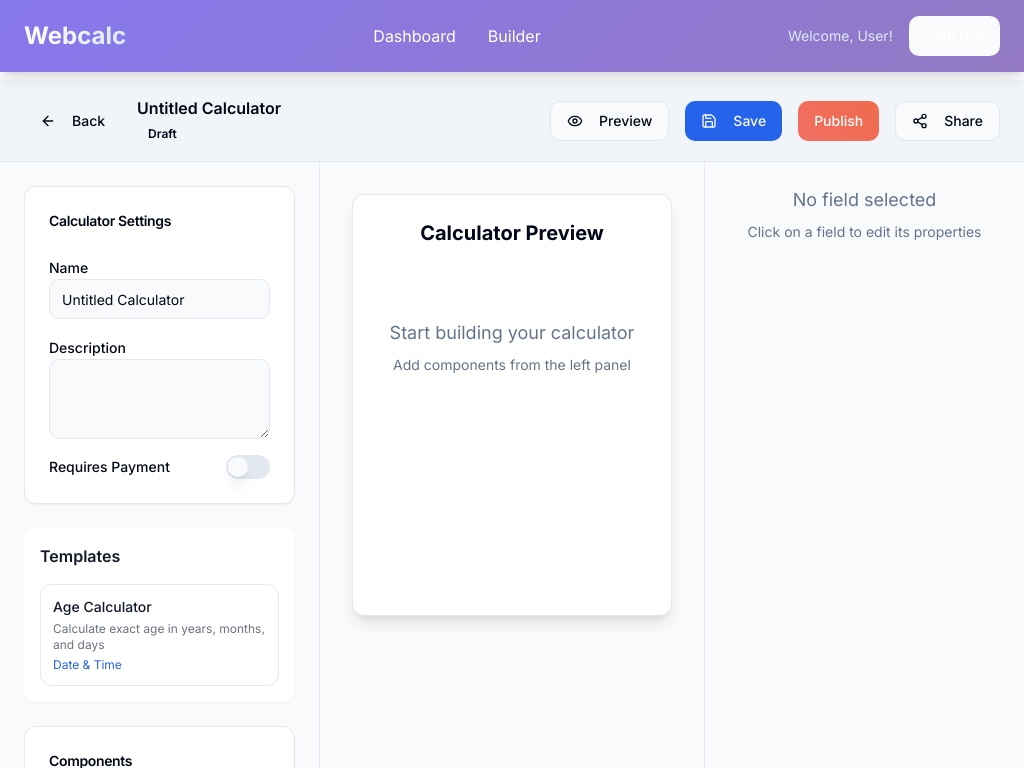
Test: Builder › shows preview mode
The width and height of the screenshot is (1024, 768).
What coordinates should you click on to do the following:
click the button with test id "button-preview"
I would click on:
 (610, 120)
Its box is [550,100,669,140].
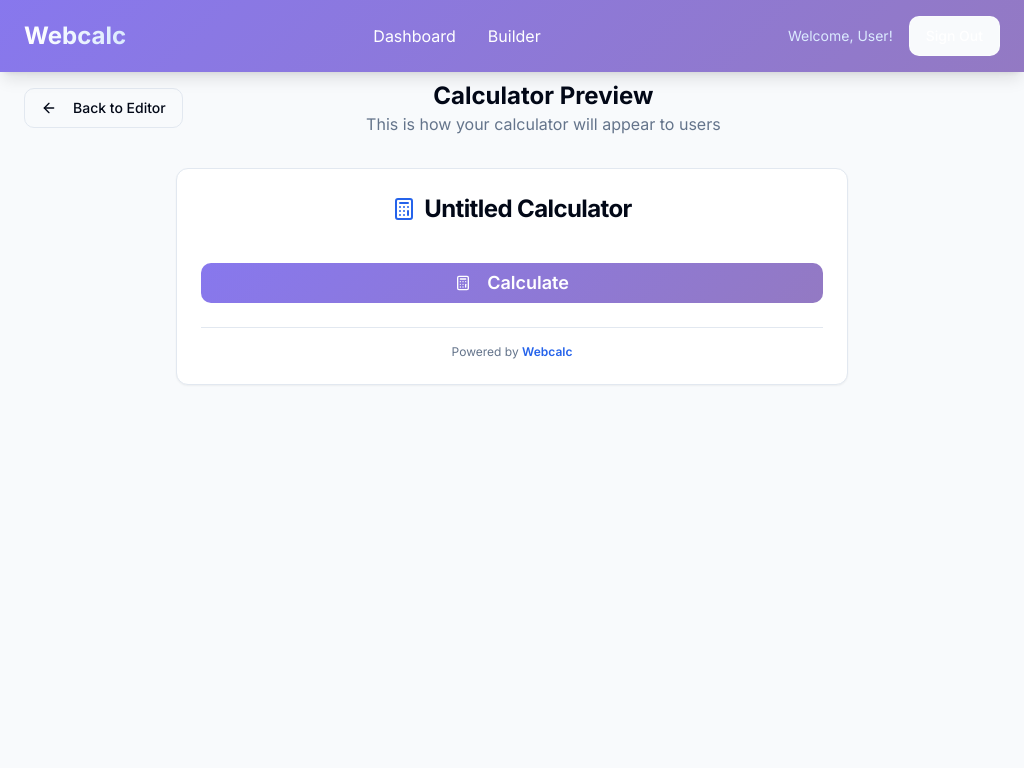
Expected: the button with test id "button-back-to-editor" is shown, [24,88,183,128]
